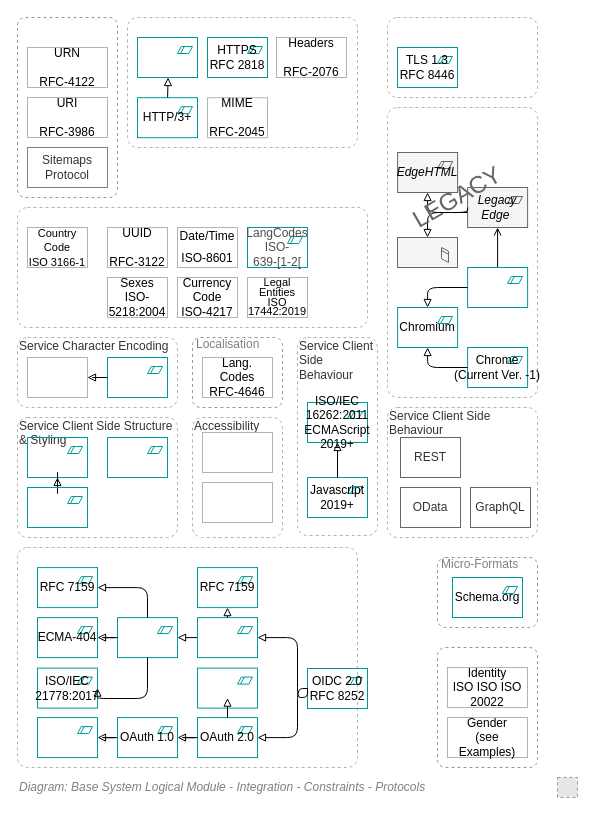
Image size: 595x815. Some labels were removed from this diagram. Grey dashed boxes stand in for pictures. The shapes that lost their labels are listed below. From the top down, each one's box as (x1, y1, x2, y2) in pixels, then its label:
(136, 36, 198, 78): RFC 2616 HTTP 1.1
(386, 16, 538, 98): Service Client Secure Transport
(126, 16, 358, 148): Service Client Transport
(16, 16, 118, 198): Resource Discoverability
(16, 206, 368, 328): Service Client Data Interoperability
(396, 236, 458, 268): Chakra
(386, 106, 538, 398): Service Client Agent (Web Browsers)
(467, 266, 528, 308): Edge 2019+ (Current Ver. -1)
(26, 356, 88, 398): Character Set ISO 10646:2017
(106, 356, 168, 398): UTF-8
(26, 436, 88, 478): RFC DRAFT
(106, 436, 168, 478): CSS 3+
(202, 432, 272, 472): WCAG 2.1 + Level AA
(26, 486, 88, 528): HTML 5
(202, 482, 272, 522): HTML ARIA Attributes
(116, 617, 178, 658): JSON
(16, 546, 358, 768): Service Client Authentication and Authorisation
(196, 617, 258, 658): JWT
(196, 667, 258, 708): RFC 6749
(436, 646, 538, 768): Ermergent
(36, 717, 98, 758): RFC 5849
